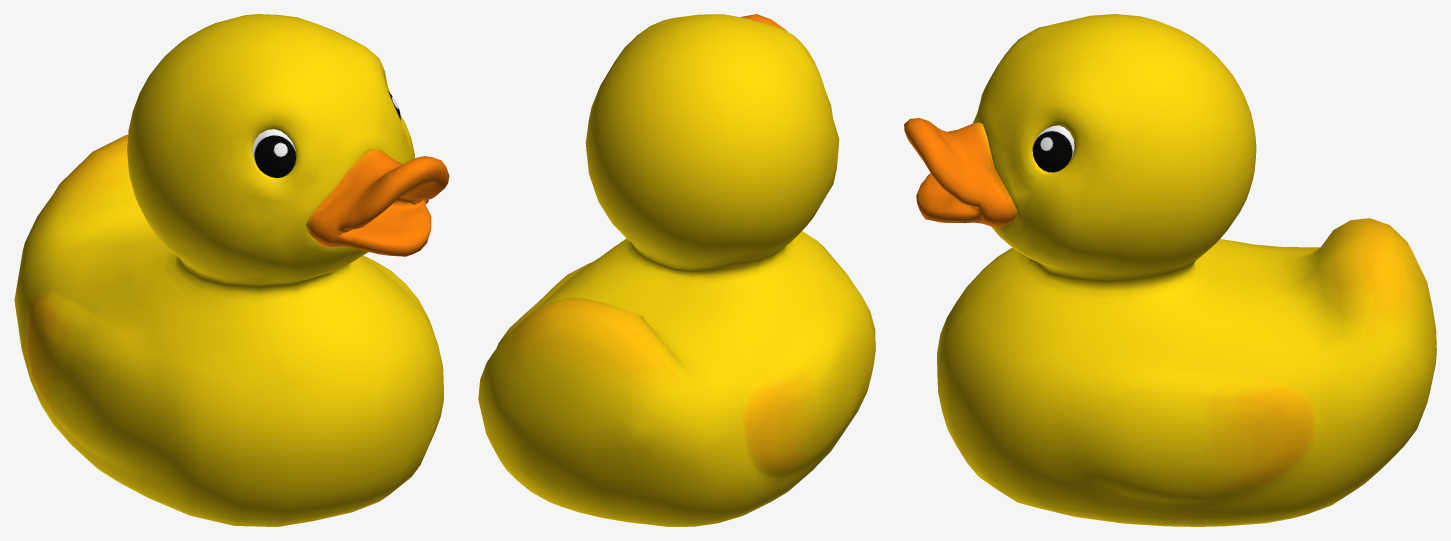
File: duck.glb
3 views of the same model, side by side, from view 1: azimuth 30°, elevation 25°; view 2: azimuth 150°, elevation 25°; view 3: azimuth 270°, elevation 25° (orthographic). The views are drawn at different scales.
Visible parts, largest first — view 1: duck; view 2: duck; view 3: duck.
Part boxes in pixels (x1,y1,x2,y2): duck: (14, 14, 449, 526); duck: (478, 14, 875, 526); duck: (904, 14, 1436, 526).
Bounding box in the file's own units: 0.5547 × 0.7414 × 0.7965.
Materials: 1 (1 with a texture image).
